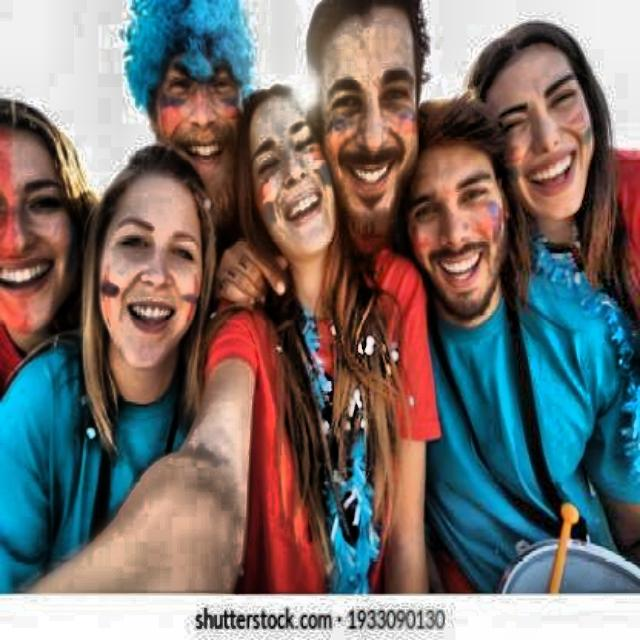happy: (286, 1, 453, 234), (121, 4, 265, 227), (466, 12, 610, 233), (92, 144, 219, 379), (393, 99, 511, 348), (1, 92, 85, 365), (232, 74, 332, 272)
